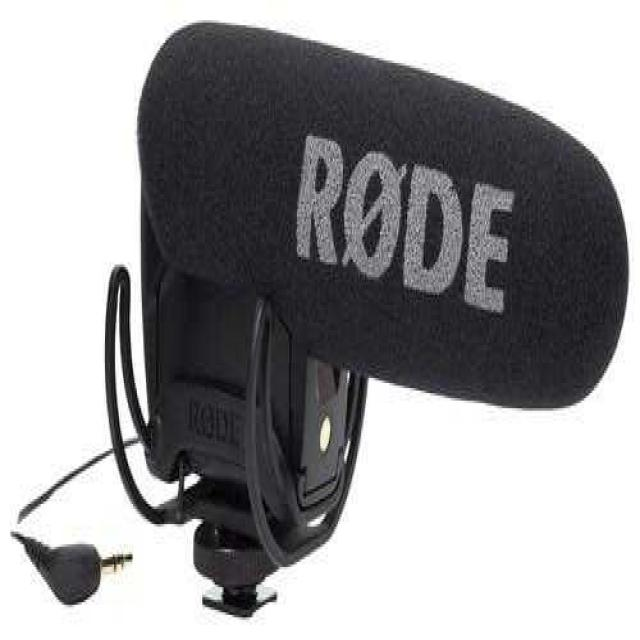microphone: (21, 23, 630, 410)
